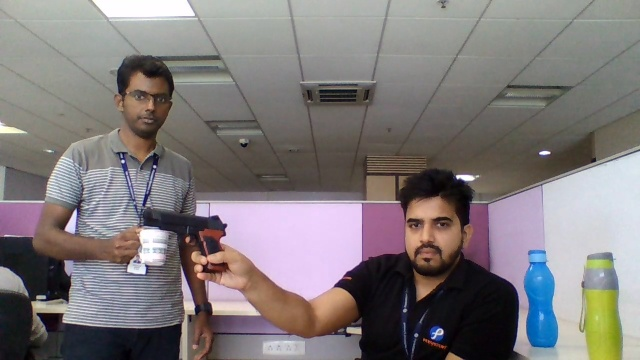gun: (142, 204, 228, 249)
